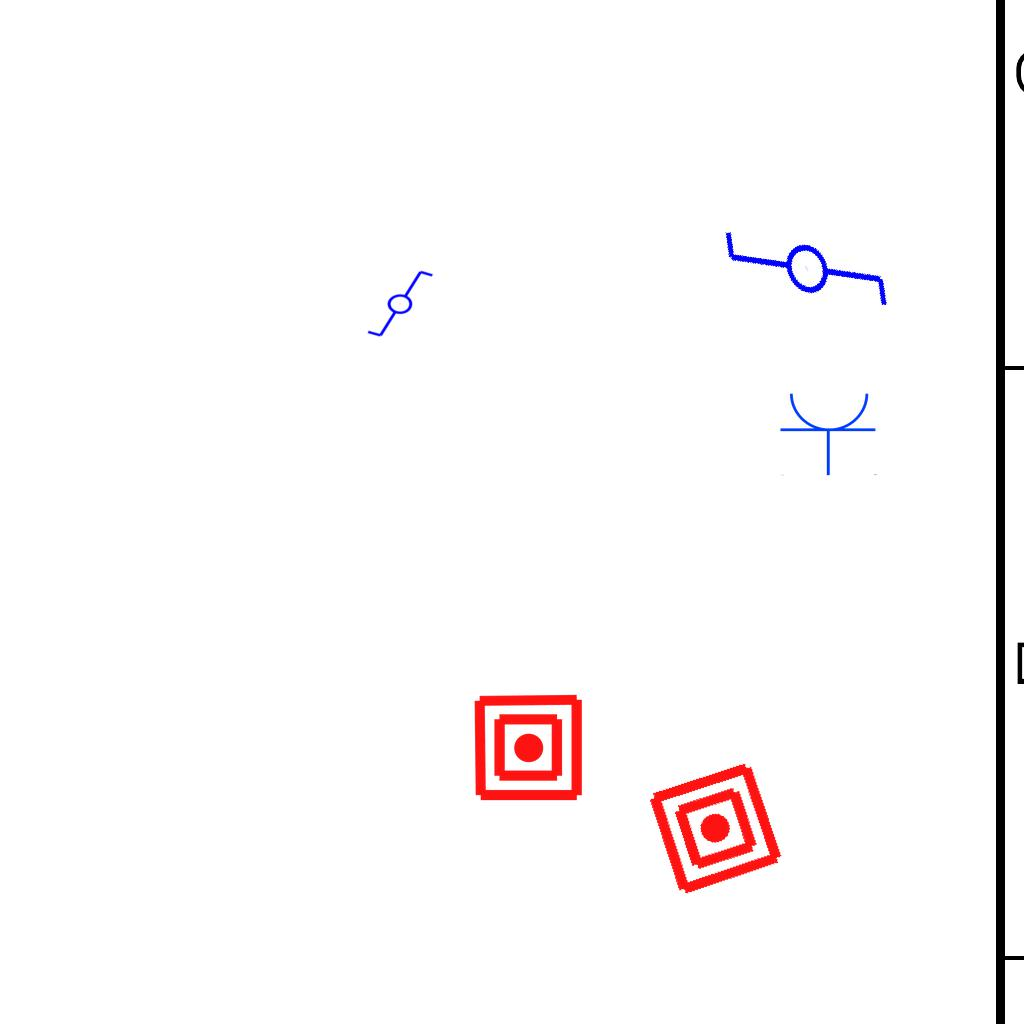NAM-Nichtautomatischer_Melder: (644, 757, 787, 900), (472, 691, 585, 804)
Schukosteckdose_einfach: (779, 389, 879, 476)
Wechselschalter: (710, 176, 907, 378), (357, 267, 435, 339)
